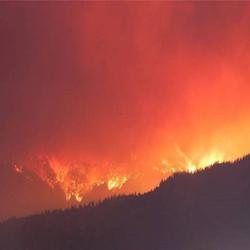fire: (184, 154, 223, 167), (104, 177, 126, 189)
